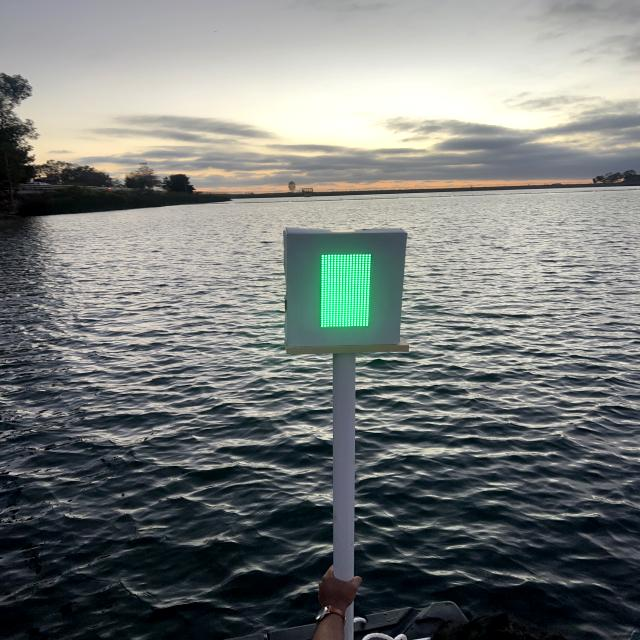led: (303, 241, 380, 336)
